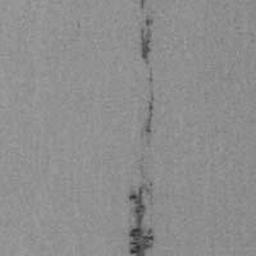Inclusion: (128, 154, 157, 256), (140, 17, 155, 84), (146, 90, 156, 132)
